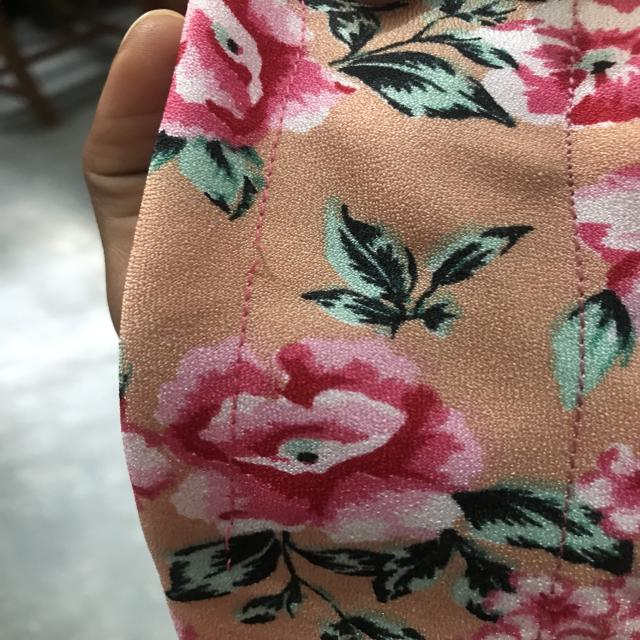broken: (231, 224, 272, 287)
good: (557, 224, 600, 446)
